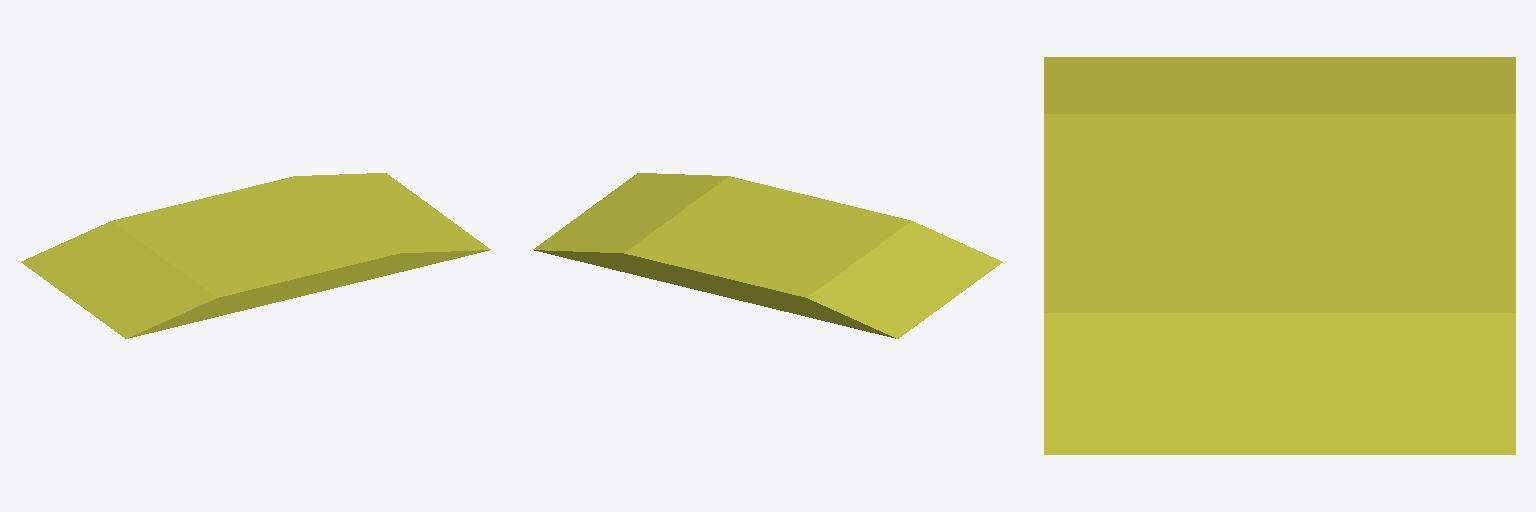
The robot description file, URDF, robot "Part1":
<?xml version="1.0" encoding="utf-8"?>
<!-- This URDF was automatically created by SolidWorks to URDF Exporter! Originally created by [author] ([email redacted]) 
     Commit Version: 1.5.1-0-g916b5db  Build Version: 1.5.7152.31018
     For more information, please see http://wiki.ros.org/sw_urdf_exporter -->
<robot
  name="Part1">
  <link
    name="ramp_5">
    <inertial>
      <origin
        xyz="7.5814E-16 7.67928484115444E-17 -0.005"
        rpy="0 0 0" />
      <mass
        value="500" />
      <inertia
        ixx="180.35"
        ixy="-6.0423E-14"
        ixz="4.7564E-15"
        iyy="450.35"
        iyz="1.08287265732095E-14"
        izz="630" />
    </inertial>
    <visual>
      <origin
        xyz="2.5 0 0"
        rpy="1.5707963267949 0 0" />
      <geometry>
        <mesh
          filename="package://ramp_5/meshes/ramp_5.STL" scale="1.5 3.3 1.5" />
      </geometry>
      <material
        name="">
        <color
           rgba="0.8 0.8 0.3 1" />
        <texture
          filename="package://ramp_5/textures/" />
      </material>
    </visual>
    <collision>
      <origin
        xyz="2.5 0 0"
        rpy="1.5707963267949 0 0" />
      <geometry>
        <mesh
          filename="package://ramp_5/meshes/ramp_5.STL"  scale="1.5 3.3 1.5"/>
      </geometry>
    </collision>
  </link>
</robot>

--- Render facts (derived) ---
3 views of the same robot in one strip: view 1: azimuth 30°, elevation 25°; view 2: azimuth 150°, elevation 25°; view 3: azimuth 270°, elevation 25° (orthographic).
Robot: Part1 — 1 links, 0 joints (none); root link ramp_5; default pose: every joint at zero.
Visible links, largest first — view 1: ramp_5; view 2: ramp_5; view 3: ramp_5.
Link boxes in pixels (x1,y1,x2,y2): ramp_5: (21,173,490,338); ramp_5: (533,173,1002,338); ramp_5: (1044,57,1515,454).
Size in the robot's own frame: 6 by 3 by 0.297 metres.
1 mesh visuals loaded from 1 distinct referenced files (1 binary STL).